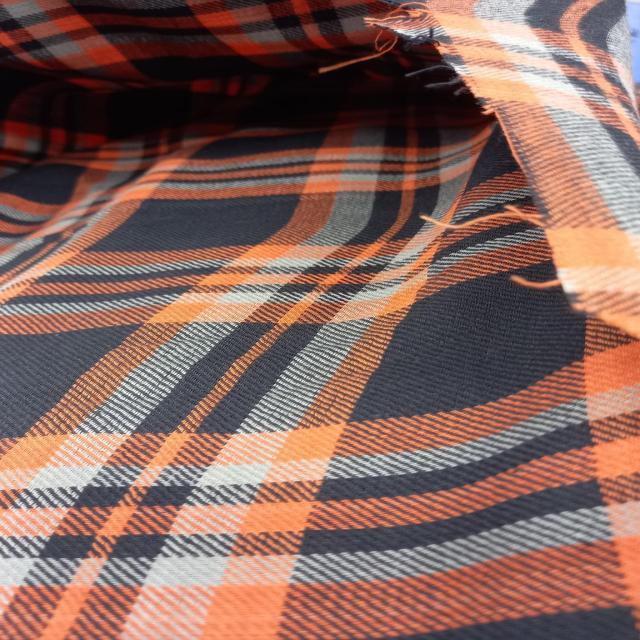cut: (140, 5, 632, 346)
